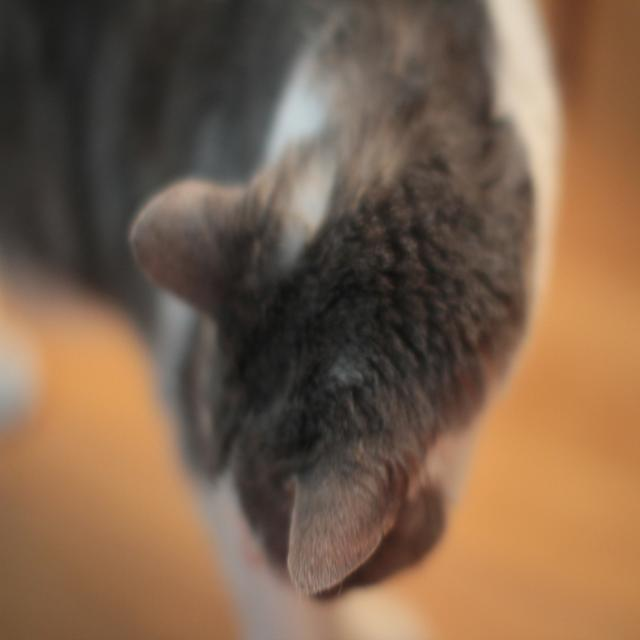Cat: (0, 0, 564, 606)
